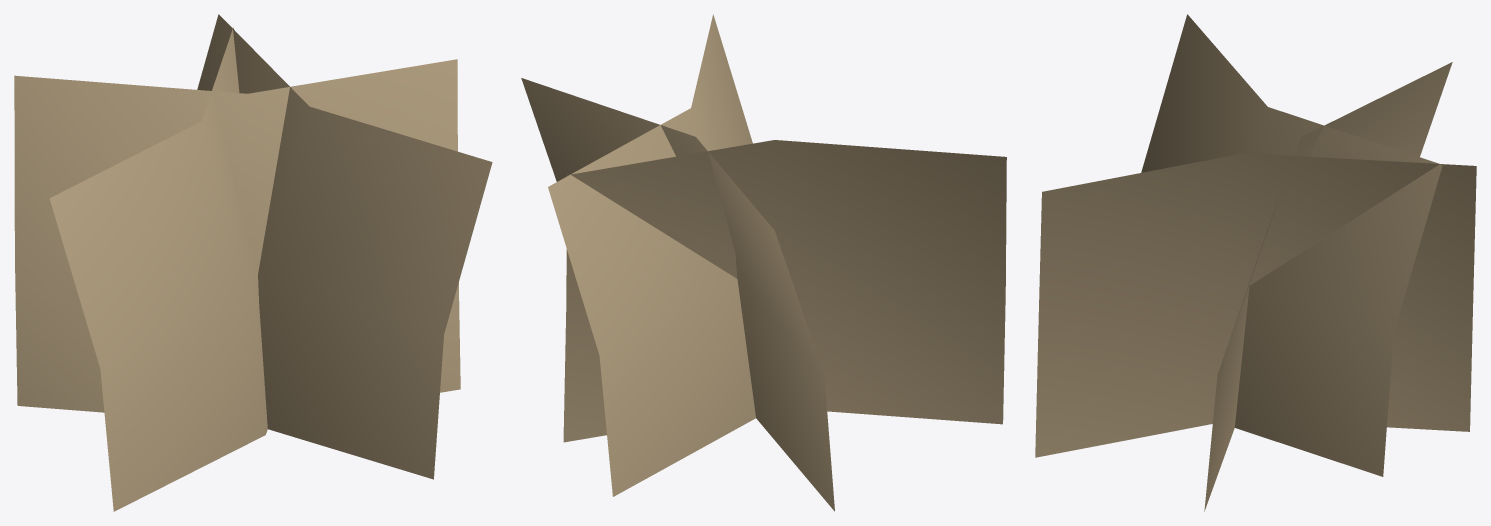
The model's file is GrassPlanes_b_TwoS_06.fbx.
3 renders of one model, left to right at view 1: azimuth 30°, elevation 25°; view 2: azimuth 150°, elevation 25°; view 3: azimuth 270°, elevation 25°, orthographic.
Visible parts, largest first — view 1: GrassPlanes_b_TwoS_06; view 2: GrassPlanes_b_TwoS_06; view 3: GrassPlanes_b_TwoS_06.
Part boxes in pixels (box(x1,y1,x2,y2)): GrassPlanes_b_TwoS_06: box(14, 14, 492, 511); GrassPlanes_b_TwoS_06: box(521, 14, 1006, 511); GrassPlanes_b_TwoS_06: box(1035, 14, 1476, 511).
Bounding box in the file's own units: 103 × 66 × 89.27.
